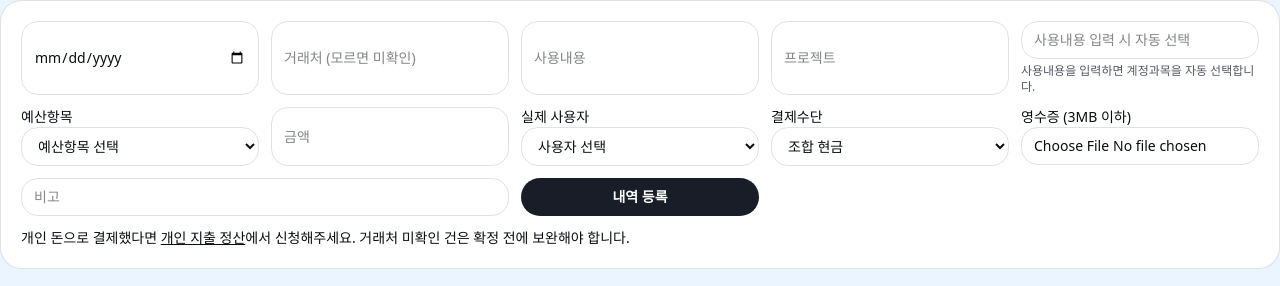
Test: 소액결의 계정과목 자동 선택 › 사용내용 변경에 따라 분류하고 알 수 없는 내용은 기존 분류를 지운다
The image size is (1280, 286).
Type "사무실 실내 페인트용품 구입" into the field labelled "사용내용" at (640, 58), box [521,21,759,95]
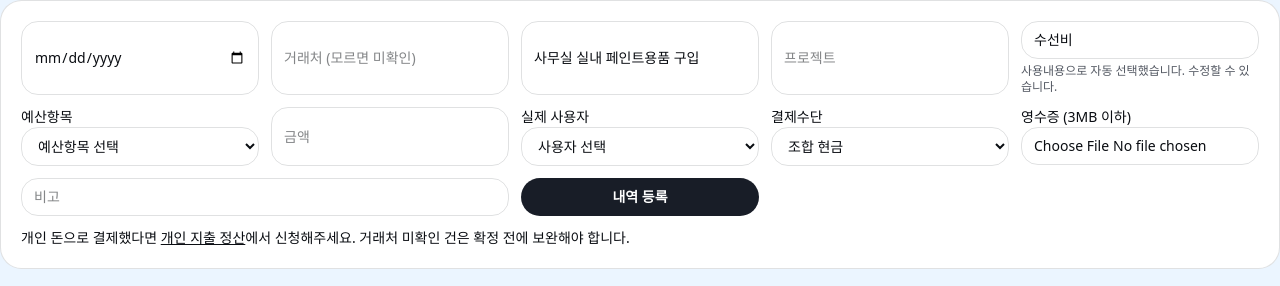
Expected: the field named "계정과목" holds "수선비", [1021,21,1259,59]
Replace the text in the field named "사용내용" with "복사용지 구입" at (640, 58), box [521,21,759,95]
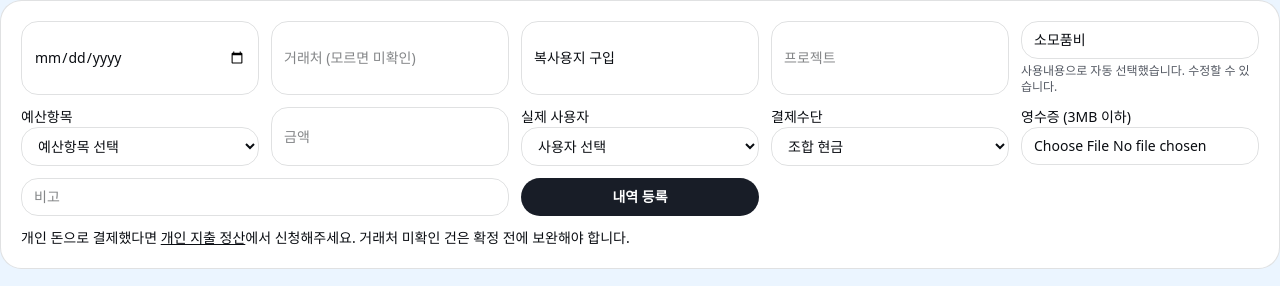
Expected: the field named "계정과목" holds "소모품비", [1021,21,1259,59]
Replace the text in the field named "사용내용" with "기타 구입" at (640, 58), box [521,21,759,95]
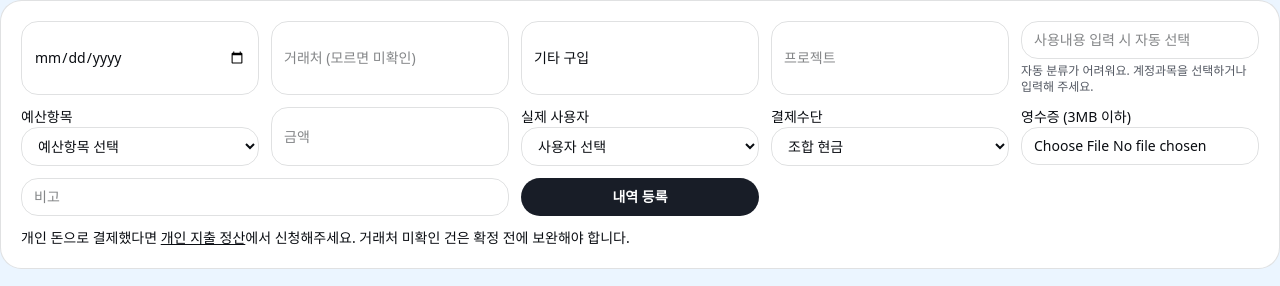
Expected: the field named "계정과목" is empty, [1021,21,1259,59]
Expected: the message shows "자동 분류가 어려워요", [1021,62,1246,95]
